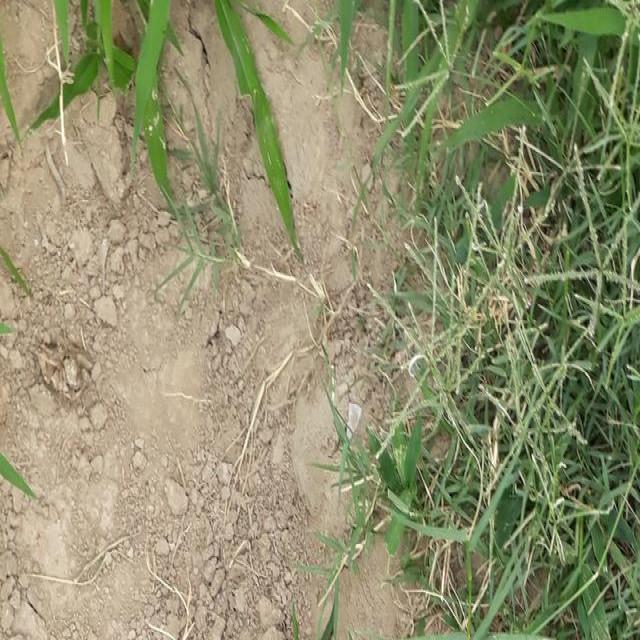weed: (397, 25, 640, 621), (61, 7, 352, 252)
